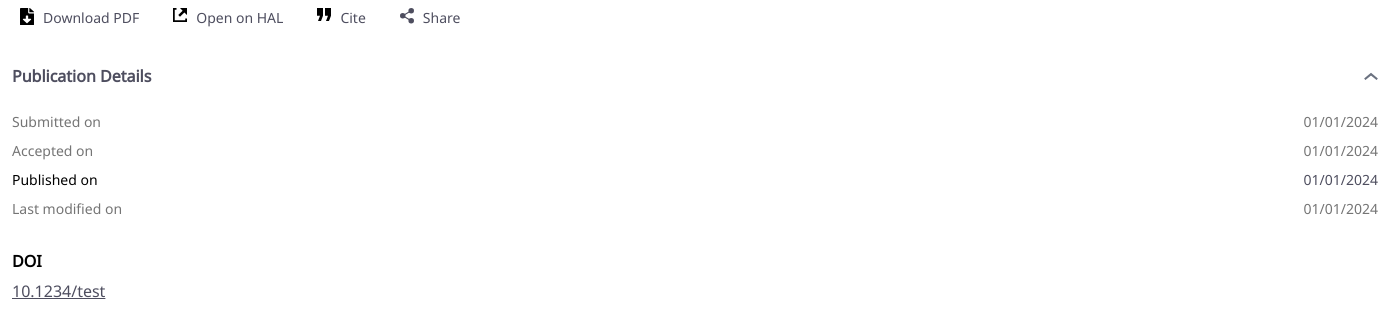
ArticleDetailsSidebar › Citations dropdown › clicking cite button toggles dropdown visibility
What coordinates should you click on to do the following:
click the button "Cite"
I would click on:
 (342, 18)
Its box is left=317, top=8, right=366, bottom=27.
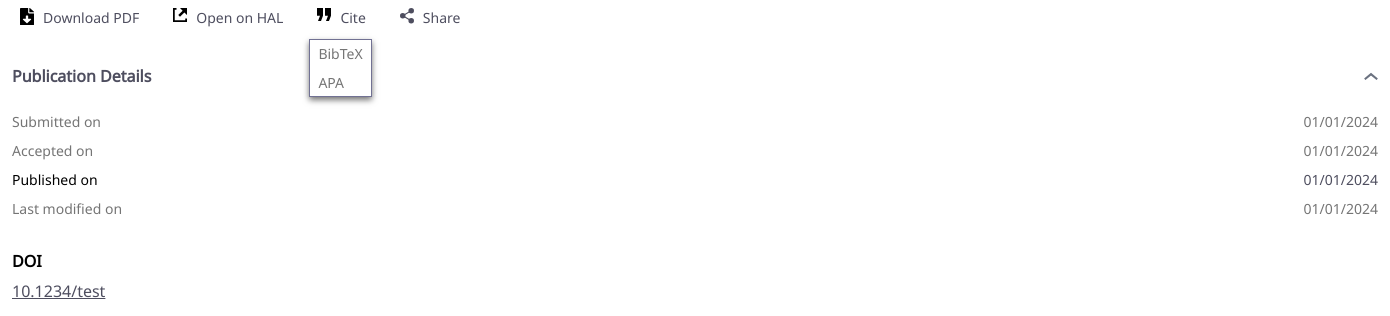
Check: the element with class "articleDetailsSidebar-links-link-modal-content-displayed" is shown, box left=309, top=39, right=372, bottom=97
